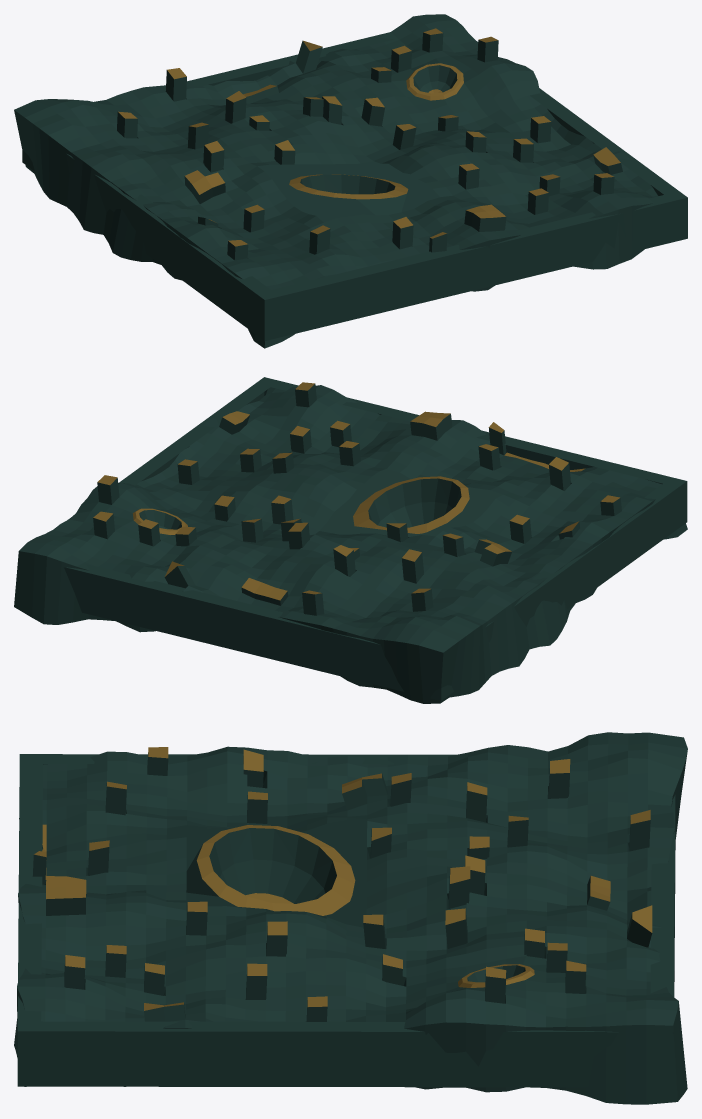
File: Normal Tile.fbx
3 views of the same model, one above another, from view 1: azimuth 30°, elevation 25°; view 2: azimuth 150°, elevation 25°; view 3: azimuth 270°, elevation 25° (orthographic). The views are drawn at different scales.
Parts seen in each view (by area): view 1: Tile; view 2: Tile; view 3: Tile.
Part boxes in pixels (x1,y1,x2,y2): Tile: (14, 14, 687, 348); Tile: (14, 377, 687, 703); Tile: (14, 732, 687, 1104).
Size of the model in its own units: 211 by 46.27 by 210.
